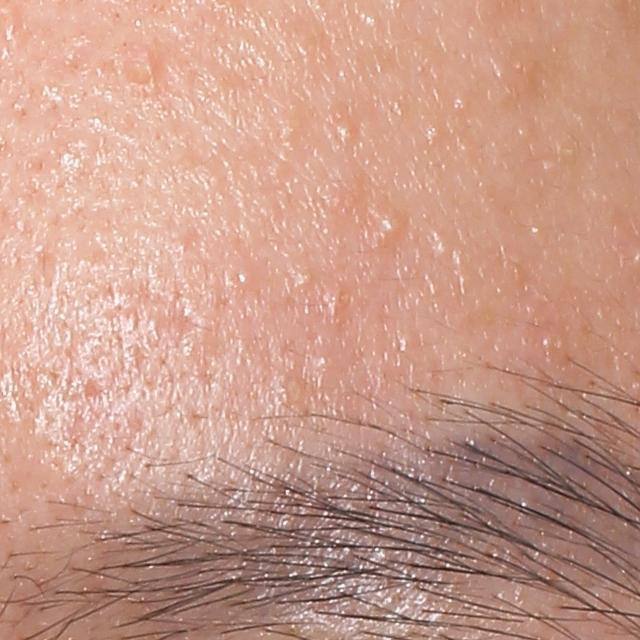comedo: (225, 264, 256, 296), (334, 113, 360, 146)
